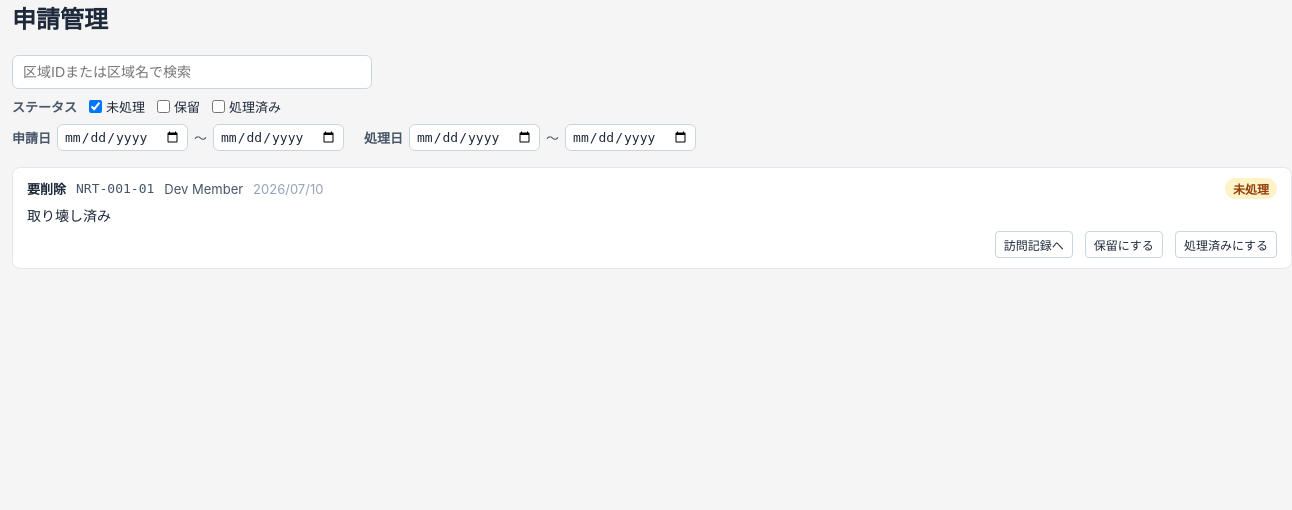
Scenario: RequestsPage 申請一覧 › 処理日の期間で絞り込める（未処理は処理日なしのため除外）
This screenshot has width=1292, height=510.
Expected: the text "取り壊し済み" is shown, [27,207,111,224]
Click the checkbox labelled "保留": (164, 106) [157,100,170,113]
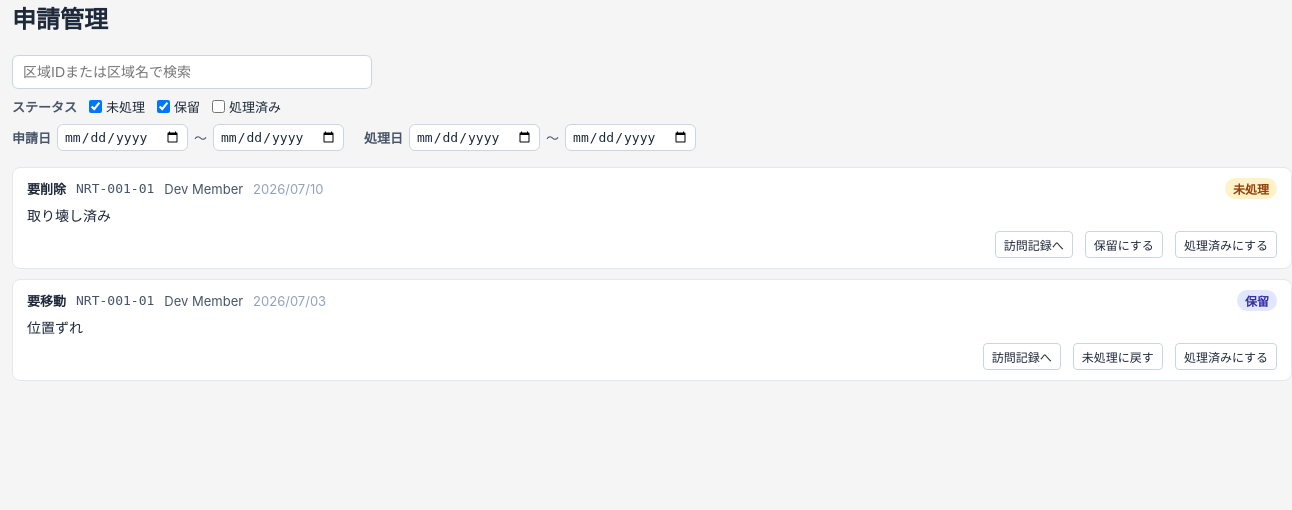
Click the checkbox labelled "処理済み": (218, 106) [212,100,225,113]
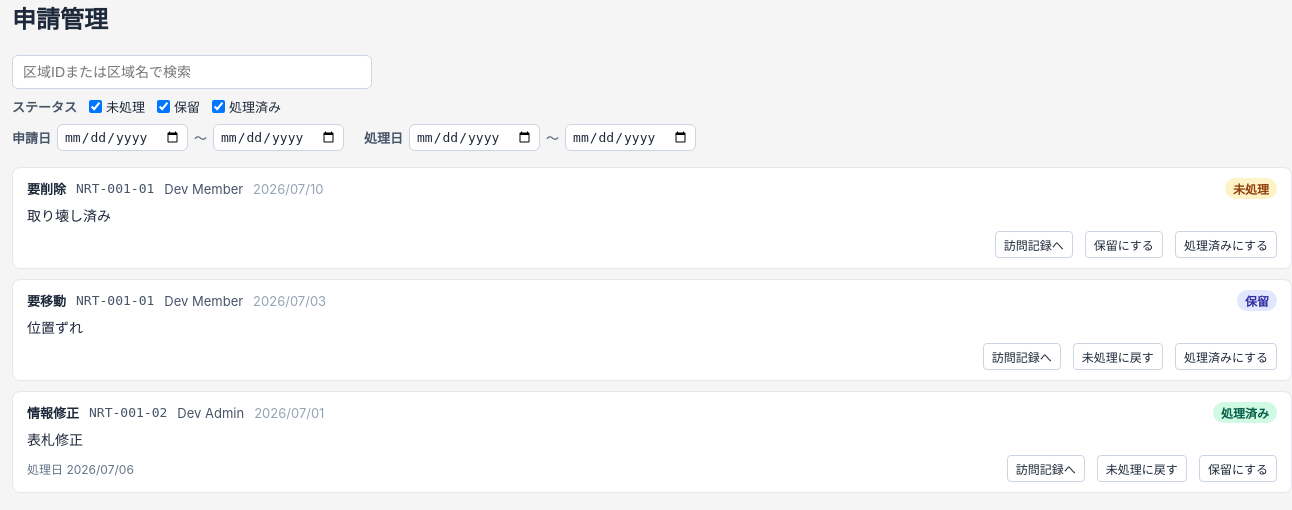
In the date field named "処理日（から）": (474, 138) [409,124,540,151], type "2026-07-06"
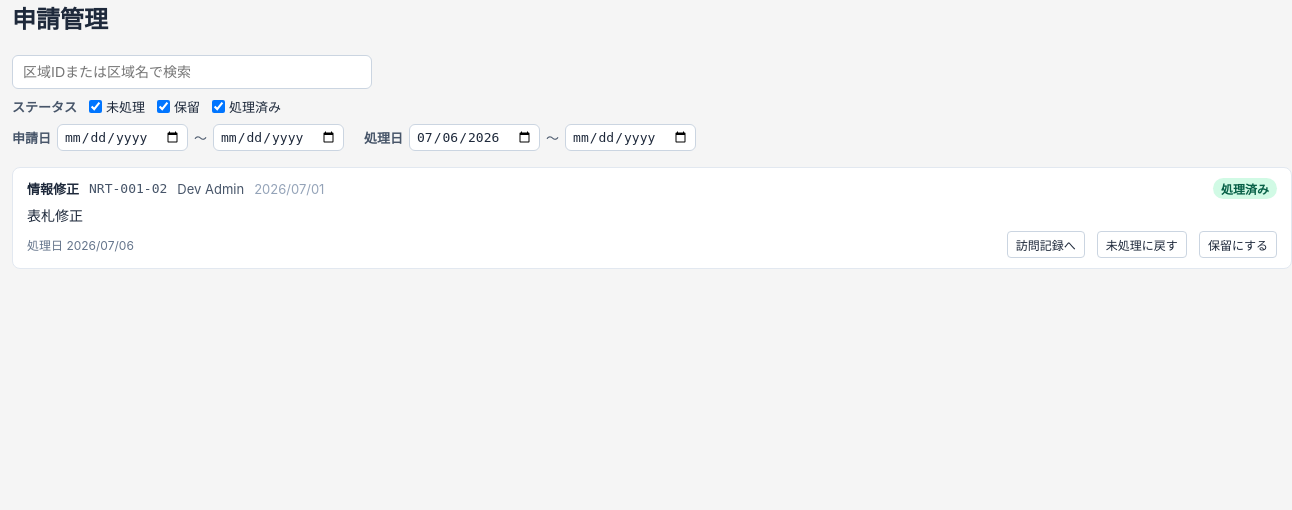
Expected: the text "表札修正" is shown, [27,207,83,224]
Expected: the number of list items with test id "request-row" is 1, [12,167,1291,269]
